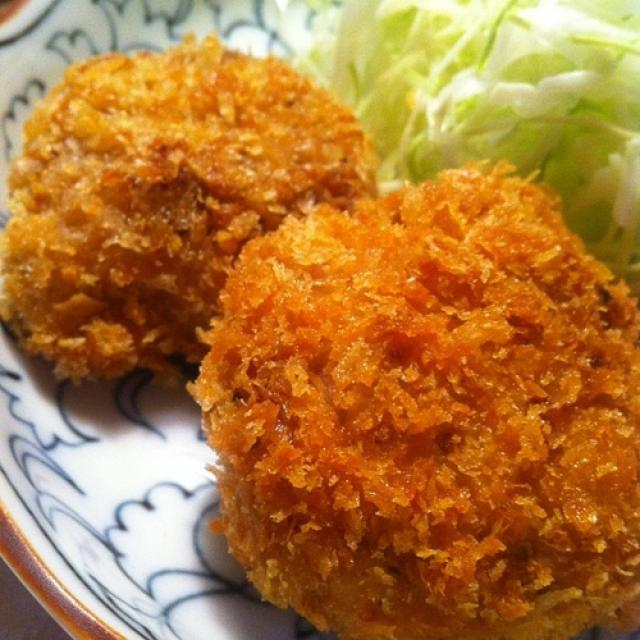牛肉菜式: (5, 21, 635, 616)
